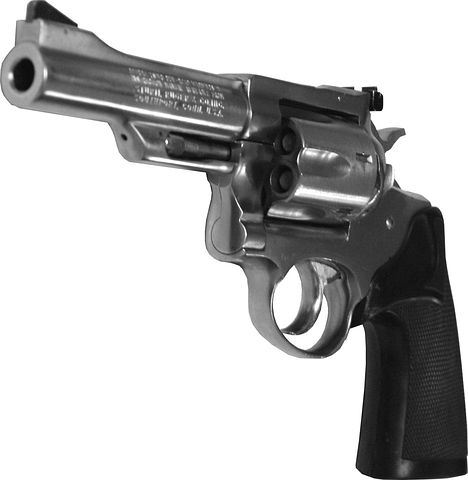gun: (3, 9, 468, 472)
